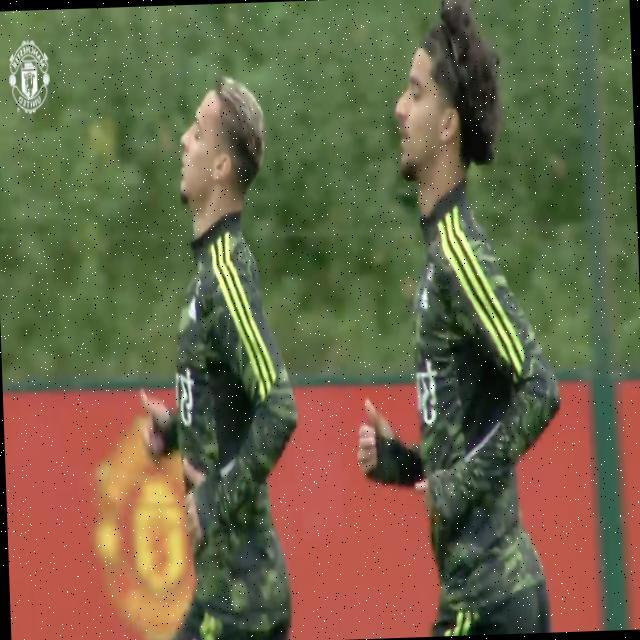Adidas: (185, 294, 198, 322), (419, 286, 430, 310)
